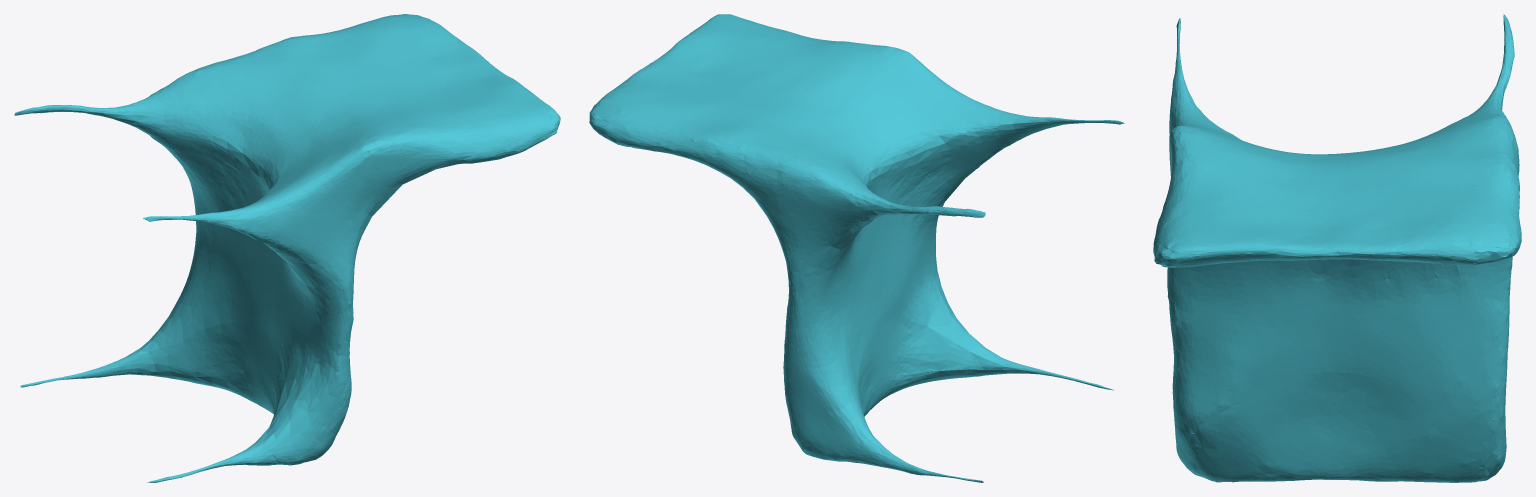
3 renders of one model, left to right at view 1: azimuth 30°, elevation 25°; view 2: azimuth 150°, elevation 25°; view 3: azimuth 270°, elevation 25°, orthographic. The views are drawn at different scales.
Visible parts, largest first — view 1: Renderer Node; view 2: Renderer Node; view 3: Renderer Node.
Boxes of the visible parts, x1=… form: Renderer Node: x1=14, y1=14, x2=560, y2=482; Renderer Node: x1=589, y1=14, x2=1124, y2=482; Renderer Node: x1=1153, y1=14, x2=1521, y2=482.
Bounding box in the file's own units: 0.602 × 0.4327 × 0.3828.
Materials: 1 (1 with a texture image).
